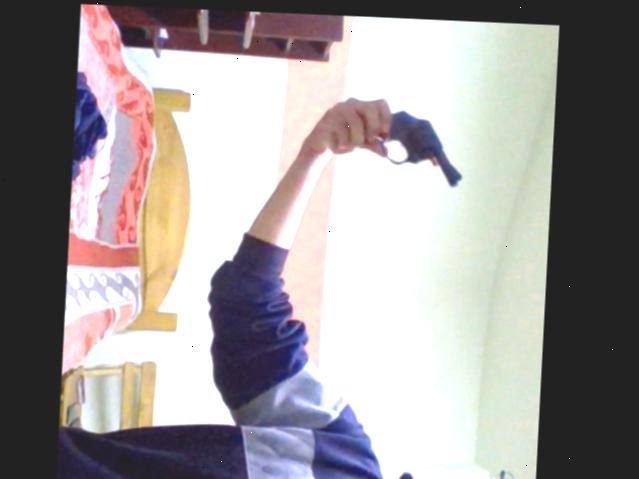pistol: (310, 32, 481, 212)
